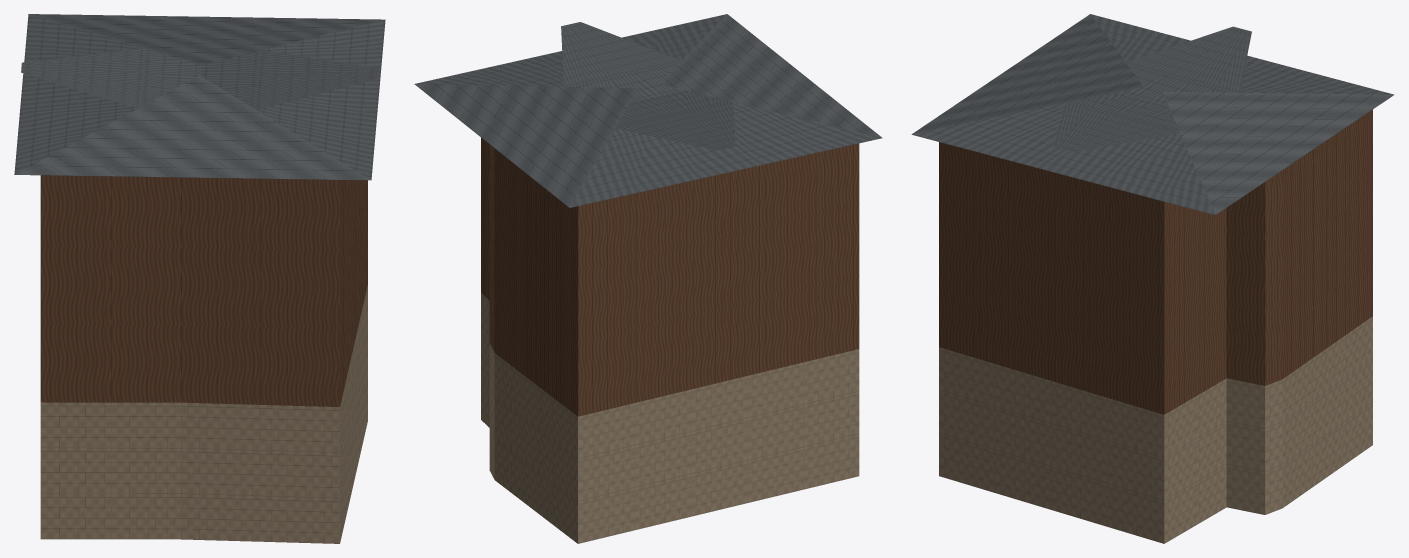
Rendered from bld_c-23_11_552.gltf.
3 views of the same model, side by side, from view 1: azimuth 30°, elevation 25°; view 2: azimuth 150°, elevation 25°; view 3: azimuth 270°, elevation 25° (orthographic). The views are drawn at different scales.
Parts seen in each view (by area): view 1: bld_c-23_11_552; view 2: bld_c-23_11_552; view 3: bld_c-23_11_552.
Part boxes in pixels (x1,y1,x2,y2): bld_c-23_11_552: (14, 14, 385, 543); bld_c-23_11_552: (414, 14, 882, 543); bld_c-23_11_552: (911, 14, 1394, 543).
Size of the model in its own units: 17.07 by 14.8 by 17.32.
3 materials, 3 textured.
